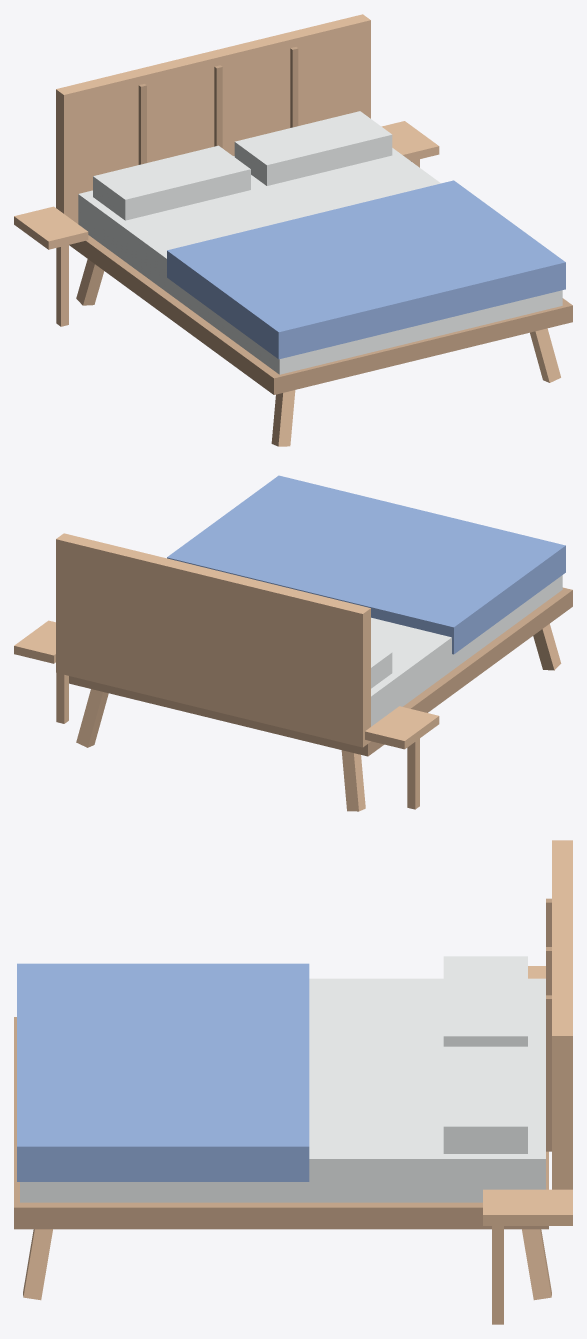
Rendered from bedDoubleMidcentury.glb.
The picture shows the model from 3 angles, top to bottom: view 1: azimuth 30°, elevation 25°; view 2: azimuth 150°, elevation 25°; view 3: azimuth 270°, elevation 25°; orthographic projection. The views are drawn at different scales.
Visible parts, largest first — view 1: bedDoubleMidcentury; view 2: bedDoubleMidcentury; view 3: bedDoubleMidcentury.
Boxes of the visible parts, x1=… form: bedDoubleMidcentury: x1=14, y1=14, x2=572, y2=446; bedDoubleMidcentury: x1=14, y1=475, x2=572, y2=811; bedDoubleMidcentury: x1=14, y1=840, x2=572, y2=1324.
Bounding box in the file's own units: 0.98 × 0.5053 × 0.93.
